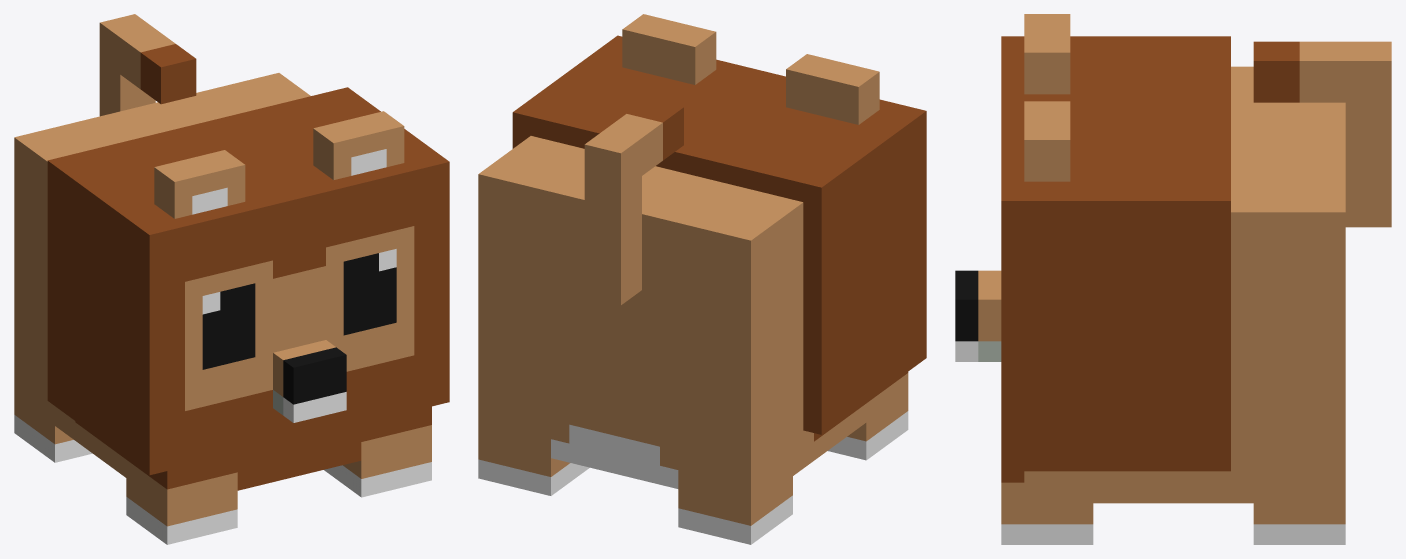
File: llion.fbx
3 views of the same model, side by side, from view 1: azimuth 30°, elevation 25°; view 2: azimuth 150°, elevation 25°; view 3: azimuth 270°, elevation 25° (orthographic). The views are drawn at different scales.
Visible parts, largest first — view 1: lion; view 2: lion; view 3: lion.
Boxes of the visible parts, x1,y1,x2,y2 form: lion: (14,14,449,544); lion: (478,14,926,544); lion: (955,14,1391,544).
Size of the model in its own units: 1700 by 2000 by 1900.
